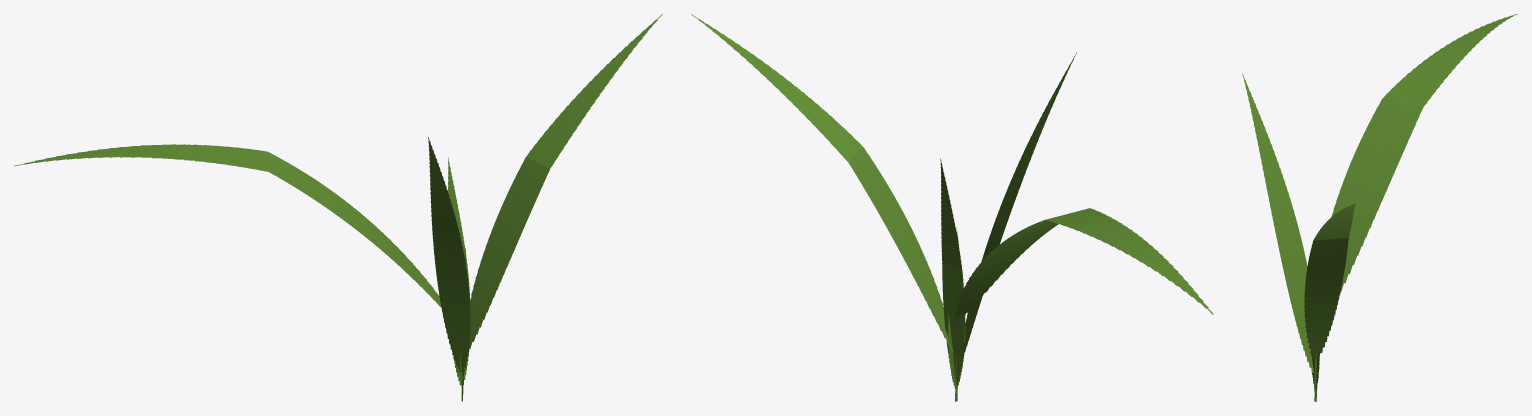
File: maize_005_day_050.dae
3 renders of one model, left to right at view 1: azimuth 30°, elevation 25°; view 2: azimuth 150°, elevation 25°; view 3: azimuth 270°, elevation 25°, orthographic. The views are drawn at different scales.
Parts seen in each view (by area): view 1: node; view 2: node; view 3: node.
Part boxes in pixels (<box>): node: <box>14,14,662,401</box>; node: <box>691,14,1213,401</box>; node: <box>1242,14,1517,401</box>.
Bounding box in the file's own units: 0.3789 × 0.2036 × 0.1687.
1 material, 1 textured.
